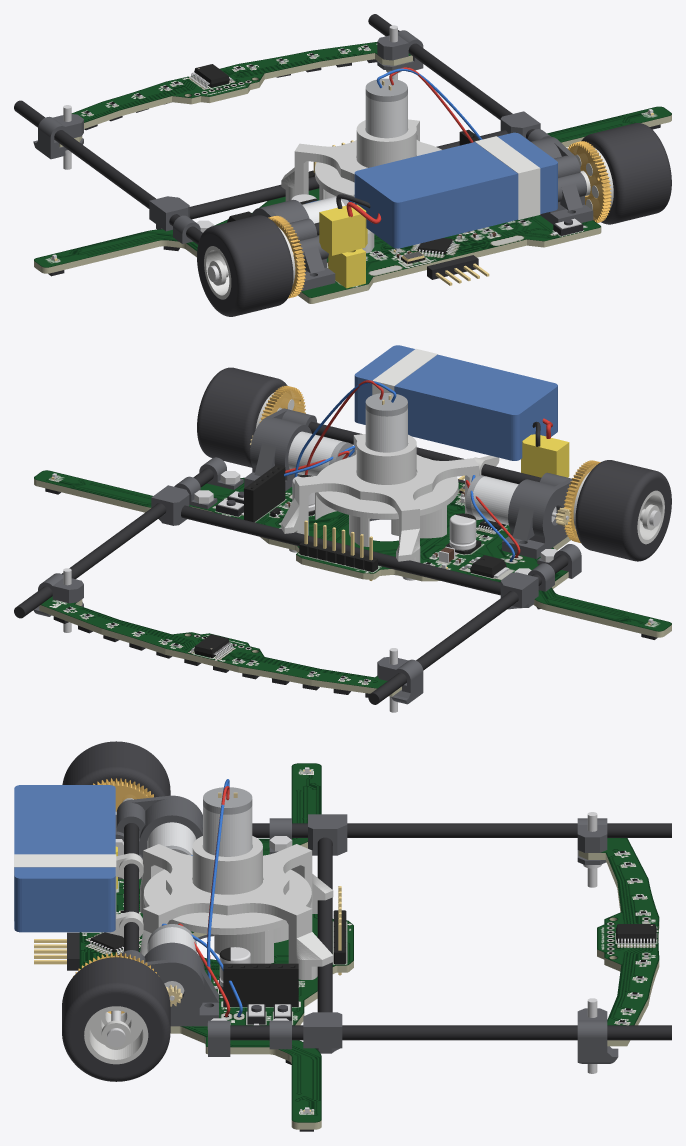
The model's file is rush_saturn_v12.glb.
The picture shows the model from 3 angles, top to bottom: view 1: azimuth 30°, elevation 25°; view 2: azimuth 150°, elevation 25°; view 3: azimuth 270°, elevation 25°; orthographic projection. The views are drawn at different scales.
Visible parts, largest first — view 1: bateria/bateria#0, pcb/base_cima#0, tracao/pneu_esq#0, tracao/pneu_dir#0, barra/pcb_cima#0, pcb/base_borda#0, ventoinha/carcaca#0, tracao/caixa_esq#0, tracao/caixa_dir#0, barra/pcb_borda#0, vareta/vareta_esq#0, bateria/bateria#1 (+20 smaller); view 2: bateria/bateria#0, pcb/base_cima#0, tracao/pneu_esq#0, ventoinha/carcaca#0, tracao/pneu_dir#0, barra/pcb_cima#0, ventoinha/helice#0, tracao/caixa_esq#0, vareta/vareta_transversal#0, pcb/base_borda#0, tracao/caixa_dir#0, vareta/vareta_esq#0 (+25 smaller); view 3: bateria/bateria#0, ventoinha/carcaca#0, tracao/pneu_dir#0, pcb/base_cima#0, barra/pcb_cima#0, vareta/vareta_dir#0, vareta/vareta_esq#0, ventoinha/helice#0, tracao/caixa_dir#0, tracao/pneu_esq#0, cima/J4#0, ventoinha/suporte_motor#0 (+22 smaller).
Part boxes in pixels (left/top/right/bottom): bateria/bateria#0: left=354, top=132, right=557, bottom=248; pcb/base_cima#0: left=34, top=106, right=671, bottom=297; tracao/pneu_esq#0: left=197, top=215, right=293, bottom=316; tracao/pneu_dir#0: left=581, top=123, right=671, bottom=224; barra/pcb_cima#0: left=71, top=42, right=411, bottom=122; pcb/base_borda#0: left=34, top=115, right=671, bottom=303; ventoinha/carcaca#0: left=281, top=119, right=434, bottom=253; tracao/caixa_esq#0: left=251, top=199, right=335, bottom=291; tracao/caixa_dir#0: left=531, top=137, right=593, bottom=224; barra/pcb_borda#0: left=59, top=53, right=412, bottom=147; vareta/vareta_esq#0: left=14, top=100, right=202, bottom=244; bateria/bateria#1: left=474, top=136, right=540, bottom=219; bateria/bateria#0: left=354, top=345, right=557, bottom=460; pcb/base_cima#0: left=34, top=470, right=671, bottom=631; tracao/pneu_esq#0: left=575, top=460, right=671, bottom=561; ventoinha/carcaca#0: left=281, top=434, right=482, bottom=562; tracao/pneu_dir#0: left=197, top=367, right=287, bottom=467; barra/pcb_cima#0: left=41, top=596, right=387, bottom=688; ventoinha/helice#0: left=315, top=457, right=458, bottom=546; tracao/caixa_esq#0: left=502, top=472, right=572, bottom=558; vareta/vareta_transversal#0: left=181, top=505, right=500, bottom=595; pcb/base_borda#0: left=34, top=479, right=671, bottom=637; tracao/caixa_dir#0: left=244, top=408, right=317, bottom=491; vareta/vareta_esq#0: left=368, top=554, right=568, bottom=704; bateria/bateria#0: left=14, top=785, right=115, bottom=932; ventoinha/carcaca#0: left=140, top=844, right=333, bottom=979; tracao/pneu_dir#0: left=62, top=957, right=170, bottom=1081; pcb/base_cima#0: left=79, top=763, right=353, bottom=1122; barra/pcb_cima#0: left=597, top=838, right=659, bottom=1025; vareta/vareta_dir#0: left=230, top=1025, right=671, bottom=1040; vareta/vareta_esq#0: left=252, top=823, right=671, bottom=837; ventoinha/helice#0: left=143, top=869, right=311, bottom=963; tracao/caixa_dir#0: left=121, top=942, right=218, bottom=1026; tracao/pneu_esq#0: left=62, top=741, right=170, bottom=797; cima/J4#0: left=223, top=963, right=298, bottom=1006; ventoinha/suporte_motor#0: left=192, top=836, right=263, bottom=894.
Bounding box in the file's own units: 0.1722 × 0.0448 × 0.1333.
Materials: 31 (4 with a texture image).
